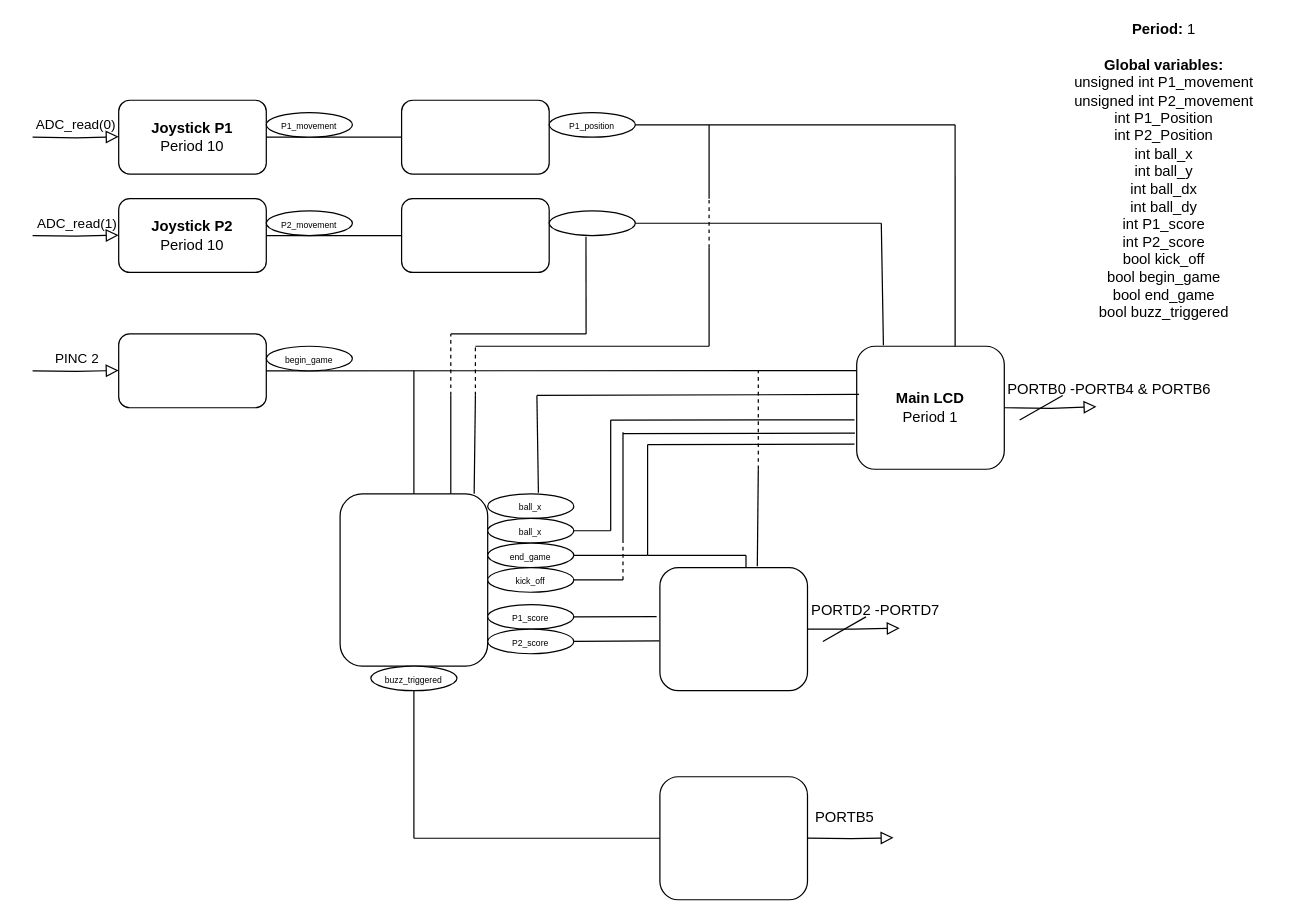
Some shapes in this 1309 by 921 pixel diagram are drawn without their labels. Each missing label, with the box of its shape:
Ball Update Period 1: (339, 493, 488, 666)
Buzzer Period 5: (659, 776, 807, 900)
P2_position: (548, 210, 635, 236)
Position P1 Period 1: (400, 99, 549, 174)
Position P2 Period 1: (400, 197, 549, 272)
Results LCD Period 100: (659, 566, 807, 691)
Start Button Period 1: (117, 333, 266, 408)
